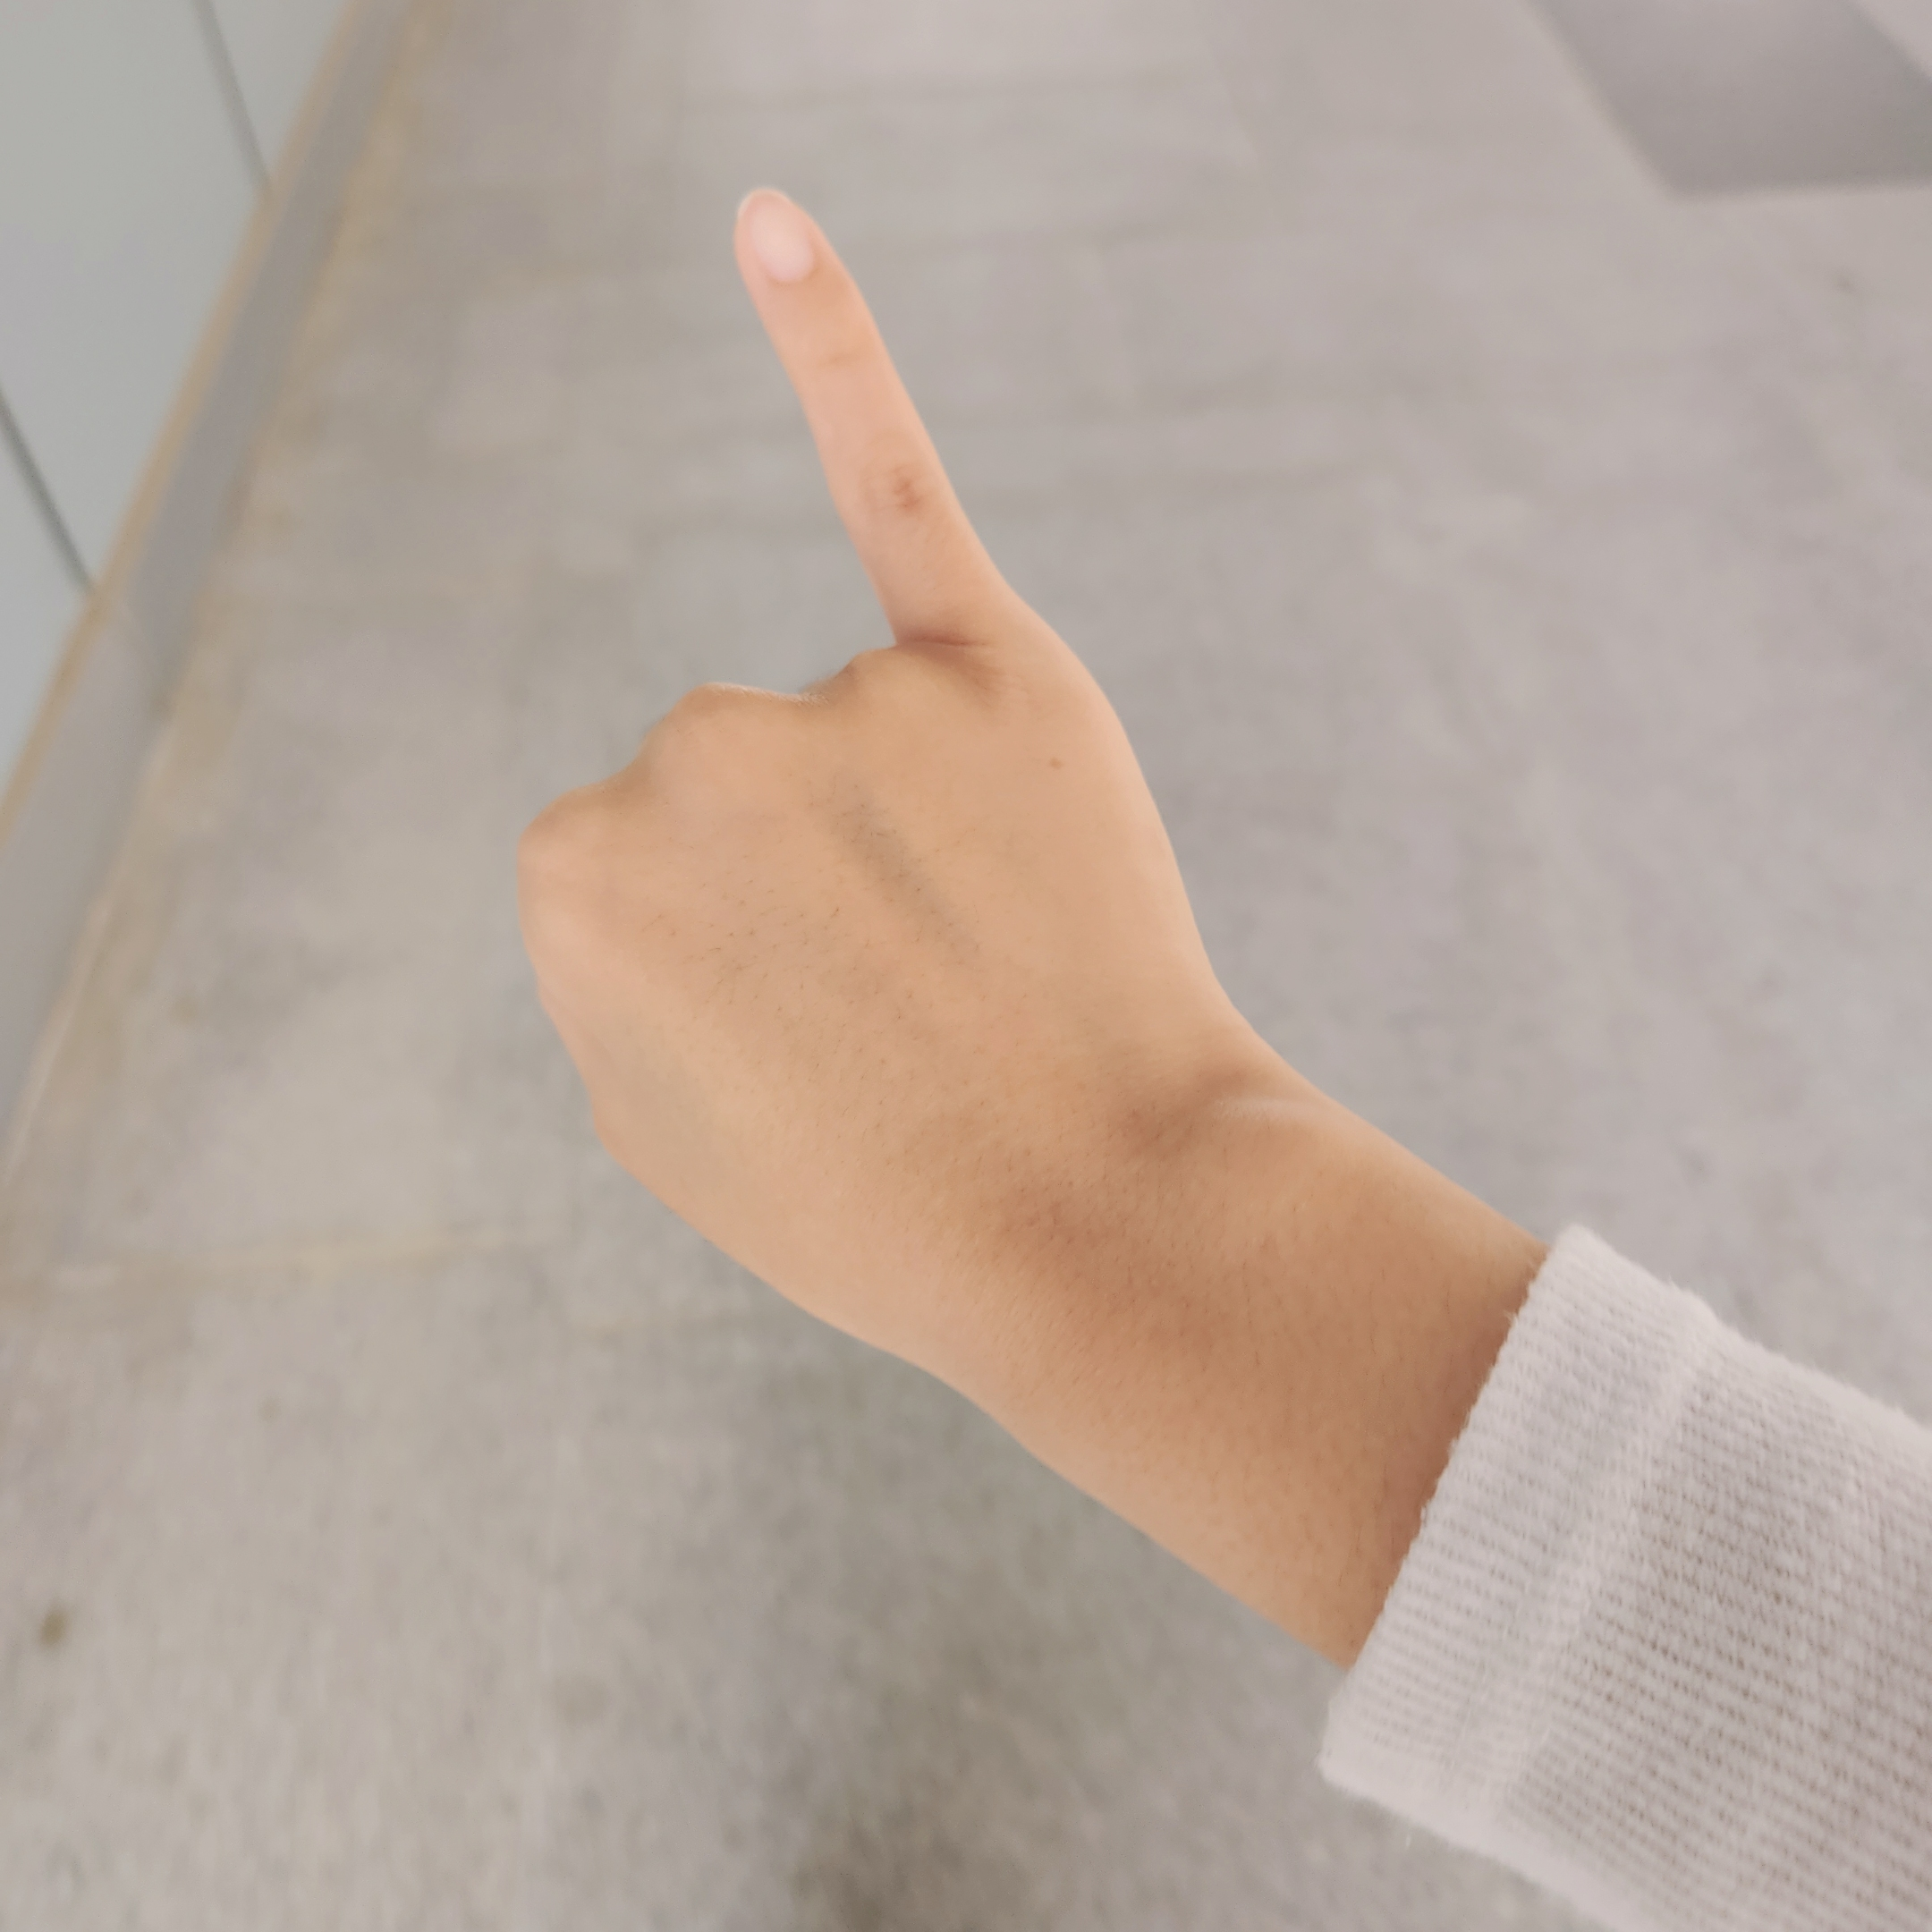fine: (513, 186, 1272, 1396)
